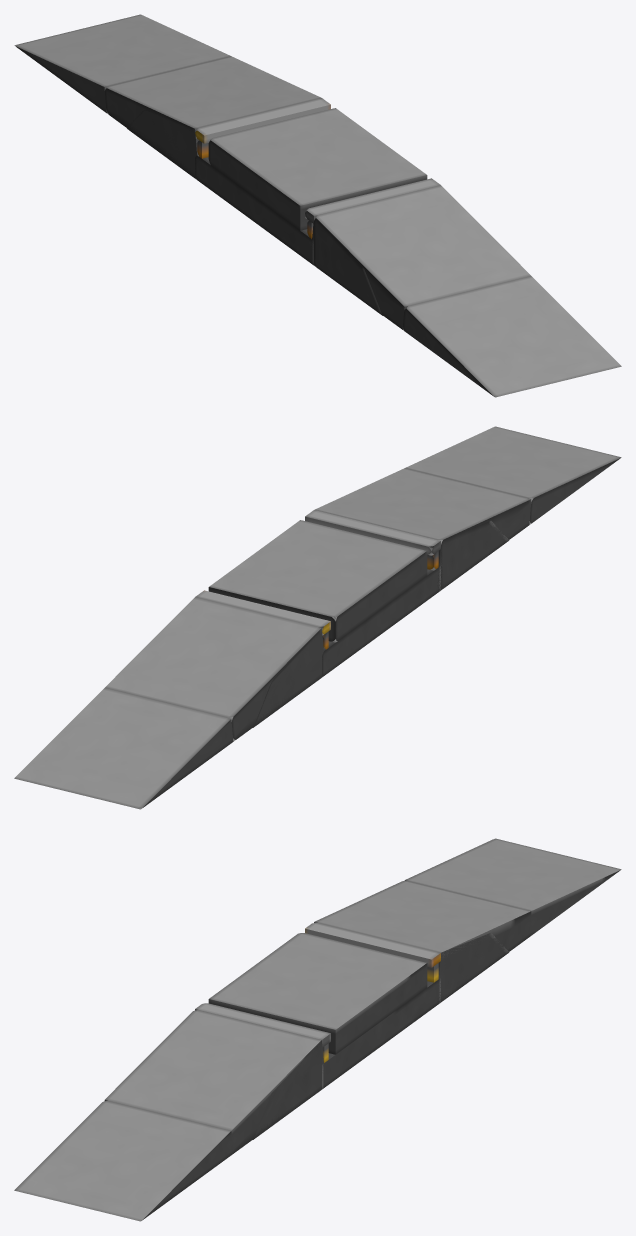
File: redstone_crossing.obj
3 views of the same model, one above another, from view 1: azimuth 30°, elevation 25°; view 2: azimuth 150°, elevation 25°; view 3: azimuth 330°, elevation 25° (orthographic).
Parts seen in each view (by area): view 1: RAIL_LEFT, RAIL_RIGHT, RAIL_BASE; view 2: RAIL_RIGHT, RAIL_LEFT, RAIL_BASE; view 3: RAIL_LEFT, RAIL_RIGHT, RAIL_BASE.
Boxes of the visible parts, x1,y1,x2,y2 form: RAIL_LEFT: (305,178,621,397); RAIL_RIGHT: (14,14,330,179); RAIL_BASE: (195,108,427,265); RAIL_RIGHT: (14,590,330,809); RAIL_LEFT: (305,426,621,590); RAIL_BASE: (208,520,440,677); RAIL_LEFT: (14,1003,330,1221); RAIL_RIGHT: (305,838,621,1004); RAIL_BASE: (208,933,440,1089).
Bounding box in the file's own units: 1 × 0.375 × 6.57.
1 material, 1 textured.
